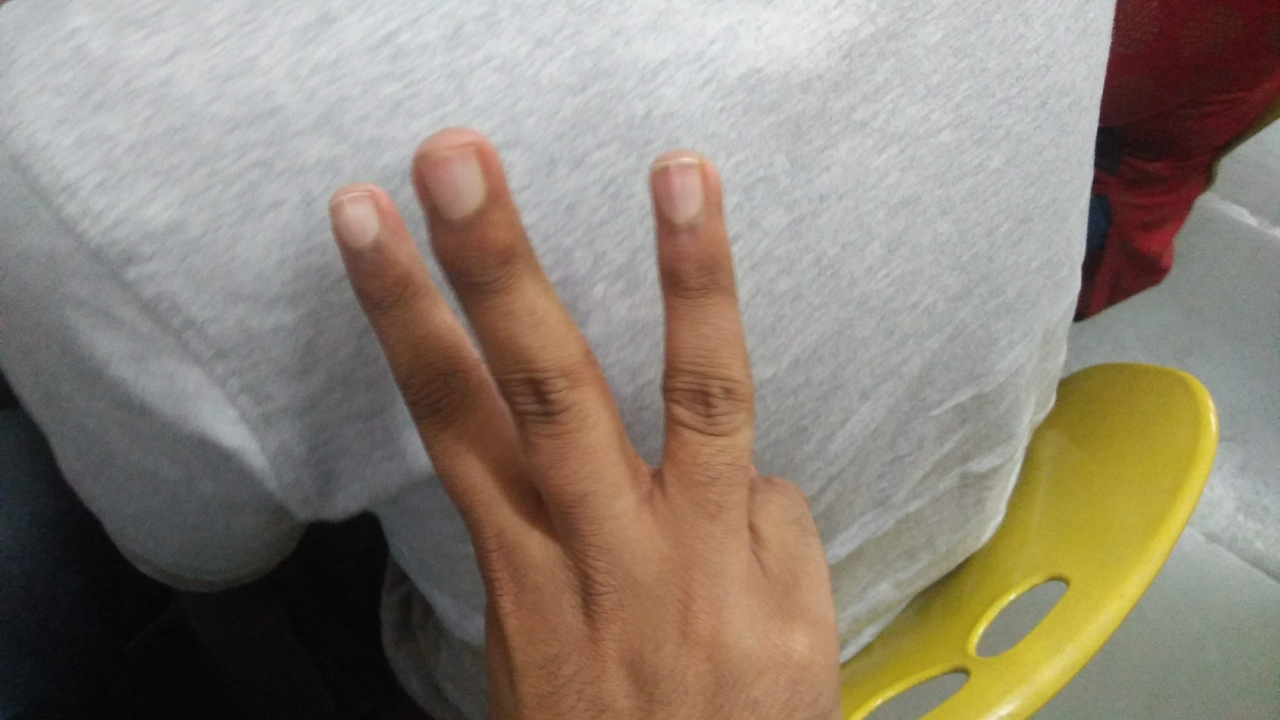fingertip: (408, 124, 507, 232), (640, 152, 732, 216), (318, 178, 394, 242)
